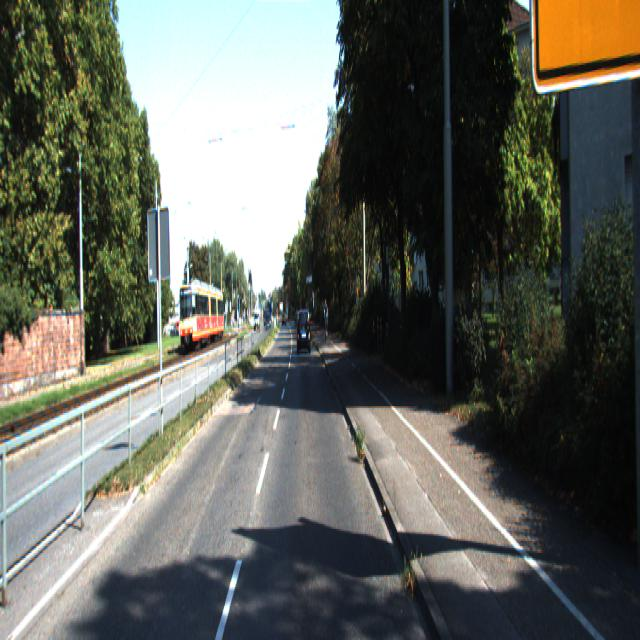Car: (178, 277, 226, 349), (297, 310, 312, 356)
